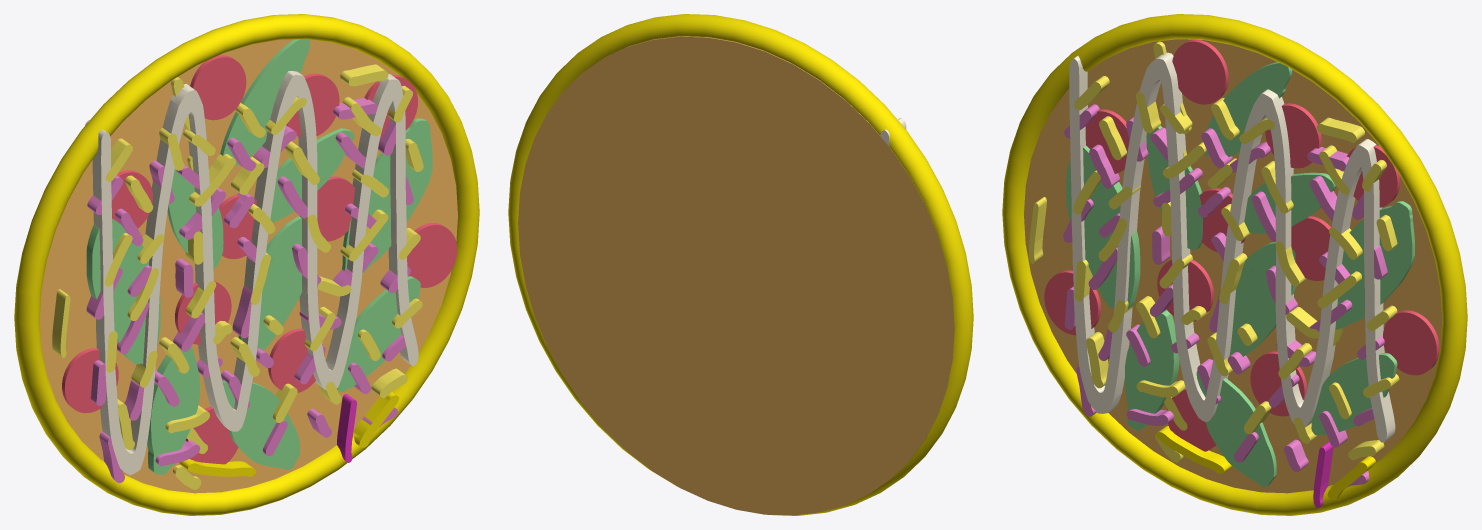
Rendered from pizza.glb.
3 views of the same model, side by side, from view 1: azimuth 30°, elevation 25°; view 2: azimuth 150°, elevation 25°; view 3: azimuth 330°, elevation 25° (orthographic).
Parts seen in each view (by area): view 1: Object_5, Object_7, Object_6, Object_9, Object_8, Object_4, Object_3, Object_2; view 2: Object_5, Object_7; view 3: Object_5, Object_7, Object_6, Object_9, Object_8, Object_4, Object_3, Object_2.
Part boxes in pixels (x1,y1,x2,y2): Object_5: (39,39,457,493); Object_7: (14,14,479,515); Object_6: (85,71,418,475); Object_9: (86,39,432,474); Object_8: (52,64,423,489); Object_4: (62,55,457,464); Object_3: (86,98,413,483); Object_2: (337,394,356,462); Object_5: (518,36,954,515); Object_7: (508,14,973,515); Object_5: (1024,39,1442,493); Object_7: (1002,14,1467,515); Object_6: (1069,52,1395,442); Object_9: (1066,62,1414,487); Object_8: (1029,41,1399,462); Object_4: (1044,39,1439,451); Object_3: (1063,104,1387,487); Object_2: (1313,441,1333,507).
Bounding box in the file's own units: 0.8666 × 0.8749 × 0.0553.
